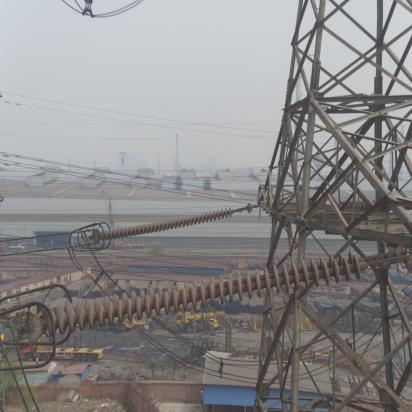insulator: (43, 249, 380, 338), (98, 206, 242, 243)
